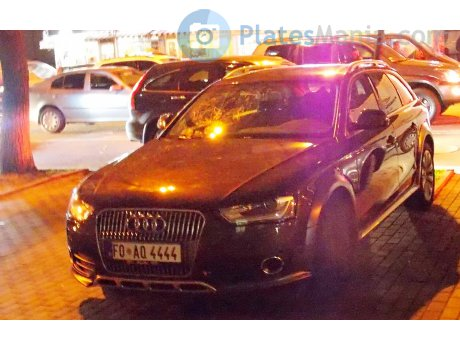License Plates: (127, 240, 184, 260)
